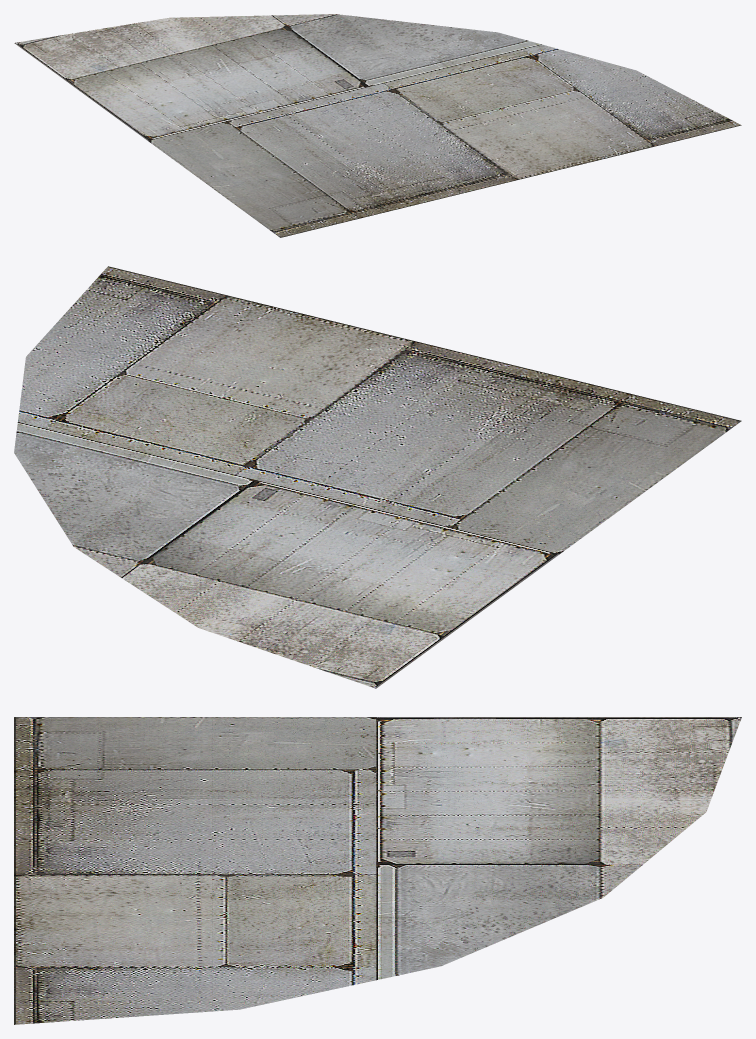
The model's file is Ceiling_C_16.fbx.
3 views of the same model, one above another, from view 1: azimuth 30°, elevation 25°; view 2: azimuth 150°, elevation 25°; view 3: azimuth 270°, elevation 25° (orthographic). The views are drawn at different scales.
Parts seen in each view (by area): view 1: Ceiling_C_16; view 2: Ceiling_C_16; view 3: Ceiling_C_16.
Part boxes in pixels (left/top/right/bottom): Ceiling_C_16: left=14, top=14, right=741, bottom=237; Ceiling_C_16: left=14, top=266, right=741, bottom=688; Ceiling_C_16: left=14, top=717, right=741, bottom=1024.
Bounding box in the file's own units: 448 × 0.00147 × 448.
